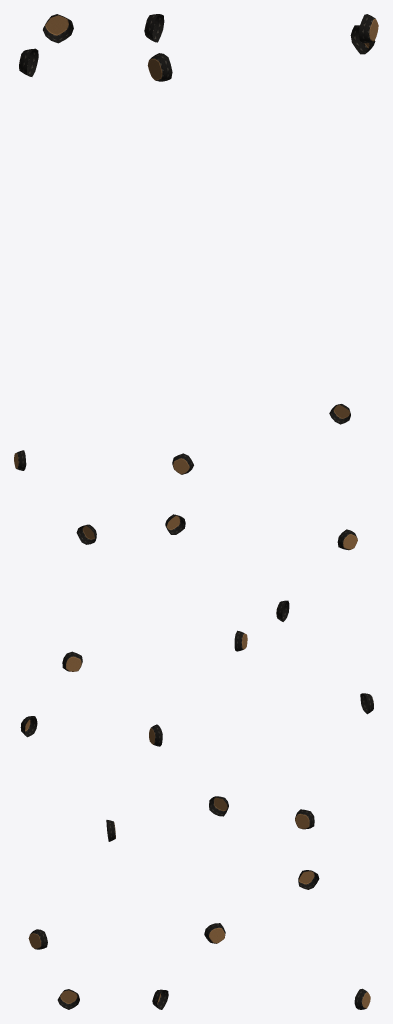
The model's file is Sitka_OldLarge_01_LowPruned_Recent_LOD1.fbx.
3 views of the same model, side by side, from view 1: azimuth 90°, elevation 25°; view 2: azimuth 150°, elevation 25°; view 3: azimuth 330°, elevation 25° (orthographic).
Visible parts, largest first — view 1: Sitka_OldLarge_01_LowPruned_Recent_LOD1_Scars; view 2: Sitka_OldLarge_01_LowPruned_Recent_LOD1_Scars; view 3: Sitka_OldLarge_01_LowPruned_Recent_LOD1_Scars.
Part boxes in pixels (bbox=[...]): Sitka_OldLarge_01_LowPruned_Recent_LOD1_Scars: bbox=[14, 14, 115, 1009]; Sitka_OldLarge_01_LowPruned_Recent_LOD1_Scars: bbox=[144, 14, 247, 1009]; Sitka_OldLarge_01_LowPruned_Recent_LOD1_Scars: bbox=[276, 14, 378, 1009].
Size of what is drawn, in the model's own units: 64.56 by 682 by 63.21.
Materials: 2 (2 with a texture image).
